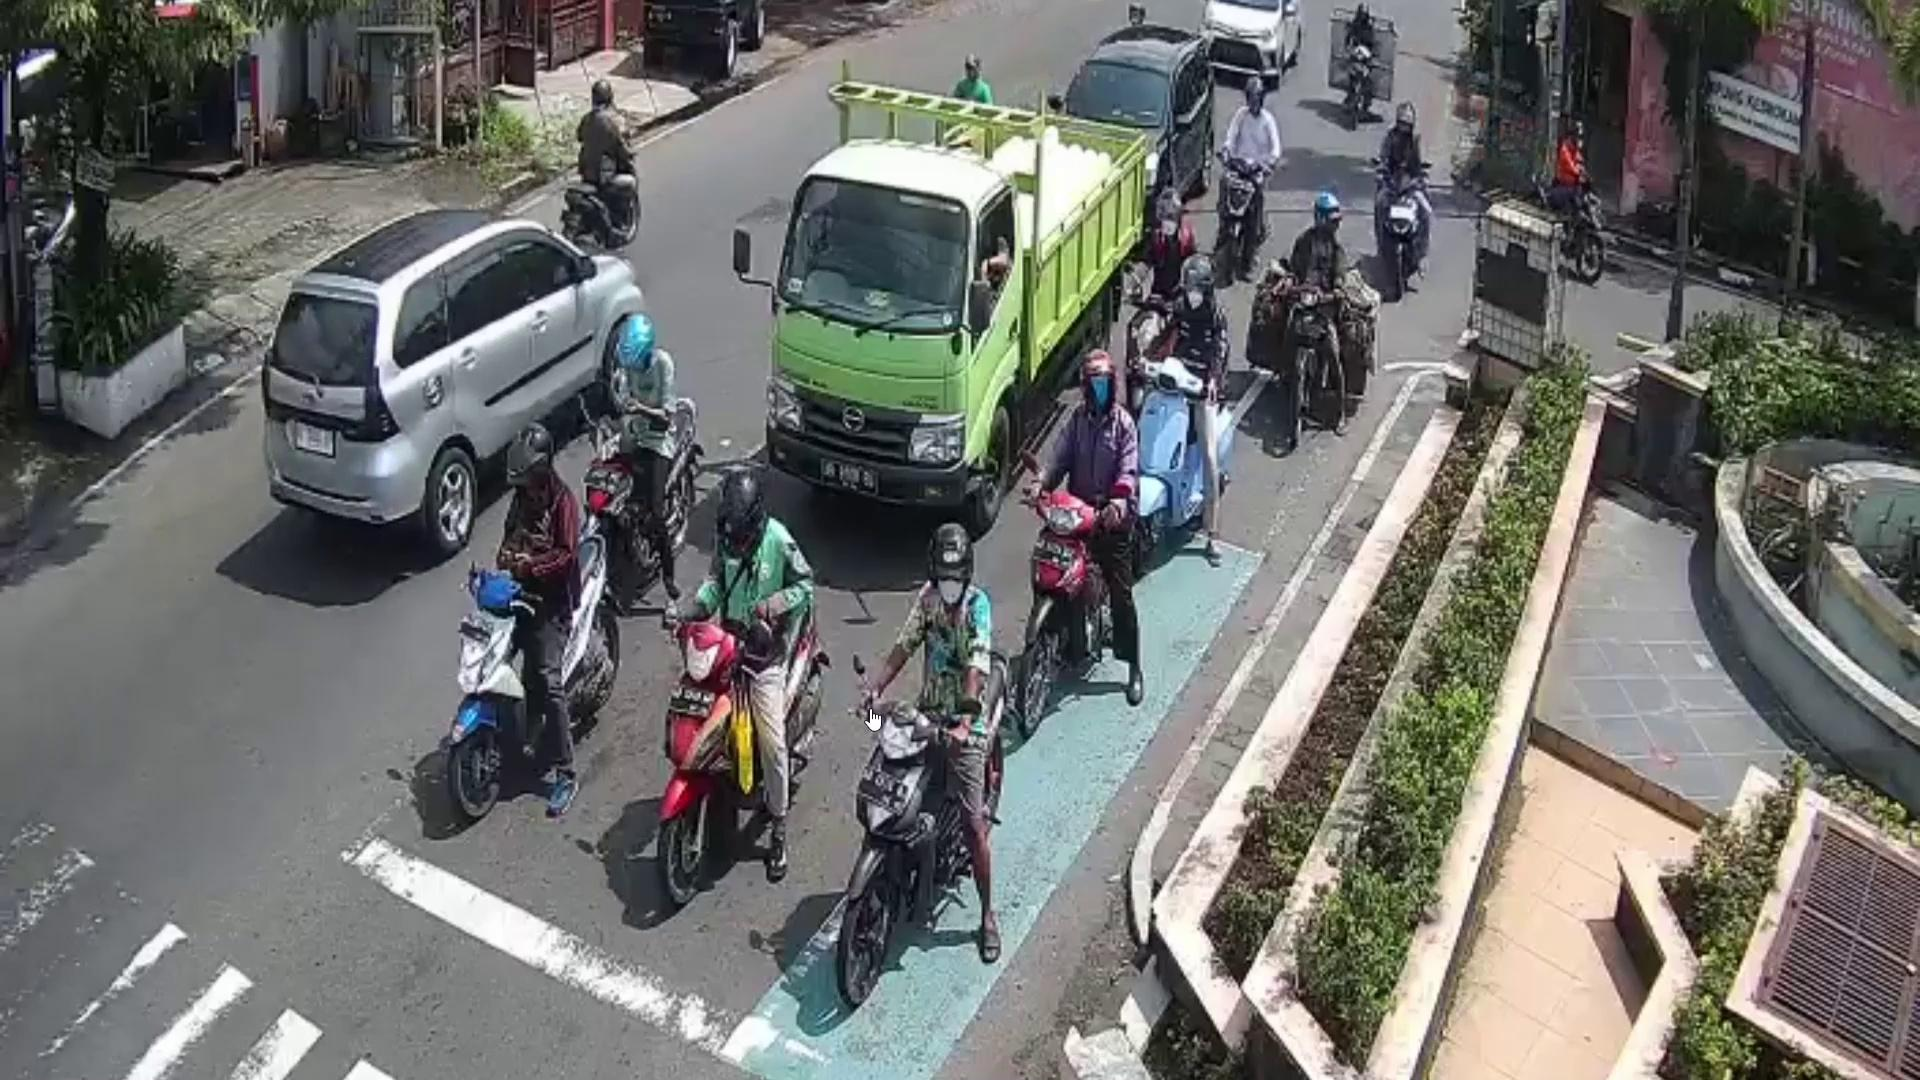car: (258, 200, 650, 549), (1054, 24, 1217, 240), (1199, 0, 1307, 96)
motorbike: (837, 646, 1015, 1005), (662, 588, 828, 907), (446, 529, 622, 823), (1017, 497, 1138, 733), (568, 396, 700, 580), (1127, 355, 1226, 563), (1526, 164, 1614, 290), (559, 141, 649, 251), (1282, 278, 1338, 444), (1374, 166, 1432, 301), (1217, 150, 1267, 280), (1349, 44, 1378, 131)
truck: (769, 75, 1150, 529)
